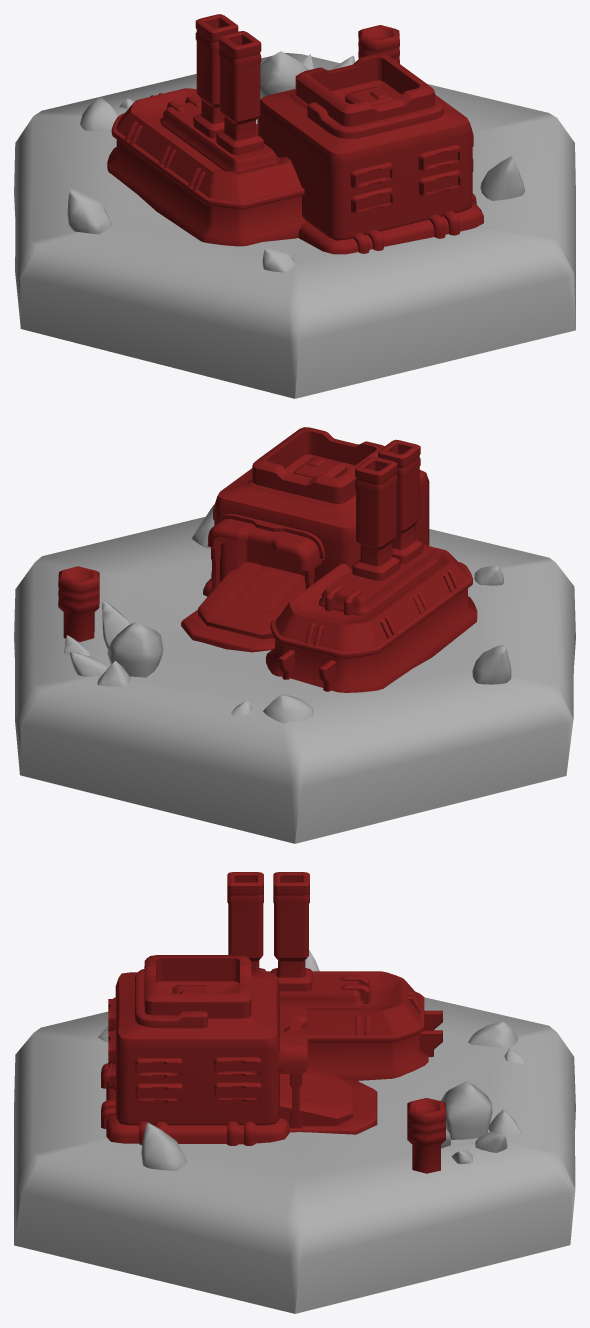
File: CF_lvl1_fix.fbx
3 renders of one model, top to bottom at view 1: azimuth 30°, elevation 25°; view 2: azimuth 150°, elevation 25°; view 3: azimuth 270°, elevation 25°, orthographic.
Visible parts, largest first — view 1: CF_lvl1:factory_level1; view 2: CF_lvl1:factory_level1; view 3: CF_lvl1:factory_level1.
Boxes of the visible parts, <box> form: CF_lvl1:factory_level1: <box>14,14,575,398</box>; CF_lvl1:factory_level1: <box>14,427,575,843</box>; CF_lvl1:factory_level1: <box>14,872,575,1313</box>.
Size of the model in its own units: 7.45 by 3.34 by 6.51.
